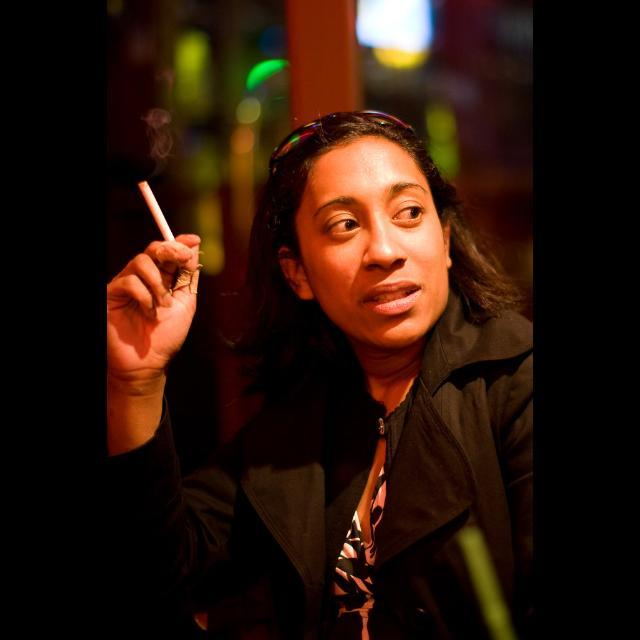rokok: (134, 178, 176, 242)
